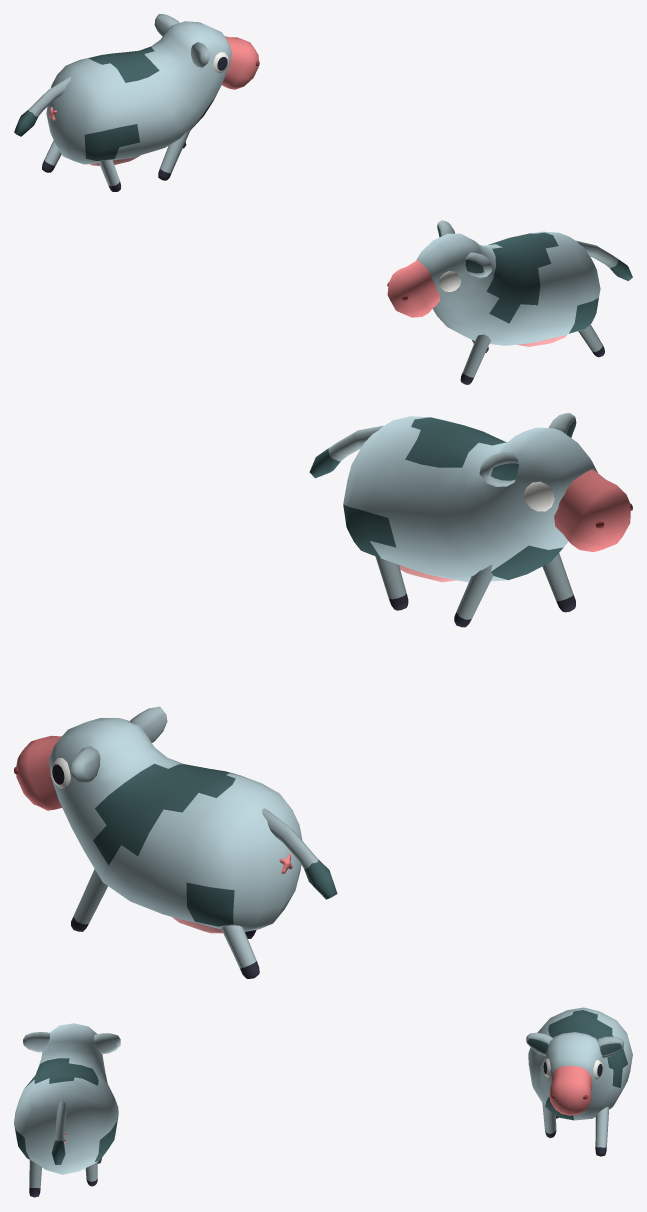
Rendered from vacas_caminando.FBX.
3 views of the same model, one above another, from view 1: azimuth 30°, elevation 25°; view 2: azimuth 150°, elevation 25°; view 3: azimuth 270°, elevation 25° (orthographic). The views are drawn at different scales.
Parts seen in each view (by area): view 1: caminatavaca:vaca1:Cow, vaca1:Cow; view 2: caminatavaca:vaca1:Cow, vaca1:Cow; view 3: vaca1:Cow, caminatavaca:vaca1:Cow.
Part boxes in pixels (left/top/right/bottom): caminatavaca:vaca1:Cow: left=14, top=14, right=259, bottom=191; vaca1:Cow: left=387, top=220, right=632, bottom=384; caminatavaca:vaca1:Cow: left=14, top=706, right=337, bottom=978; vaca1:Cow: left=309, top=413, right=632, bottom=627; vaca1:Cow: left=14, top=1023, right=120, bottom=1197; caminatavaca:vaca1:Cow: left=526, top=1007, right=632, bottom=1156.
Size of the model in its own units: 8.25 by 3.41 by 15.79.
2 materials, 2 textured.
